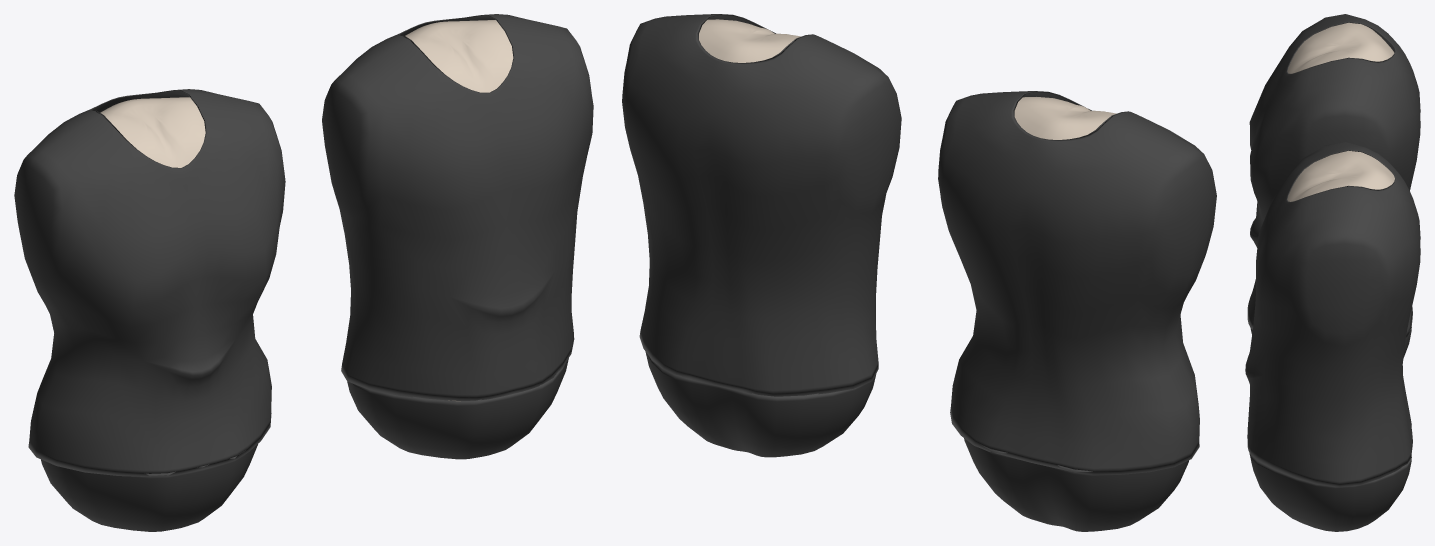
Rendered from VC_Avatar_Base_Torso_02.fbx.
3 renders of one model, left to right at view 1: azimuth 30°, elevation 25°; view 2: azimuth 150°, elevation 25°; view 3: azimuth 270°, elevation 25°, orthographic. The views are drawn at different scales.
Parts seen in each view (by area): view 1: VC_Avater_Male_Shirt_01, VC_Avater_Male_Shirt_02, VC_Avatar_Pants_Male1, VC_Avatar_Pants_Male, VC_Avatar_Torso_Male1, VC_Avatar_Torso_Male; view 2: VC_Avater_Male_Shirt_01, VC_Avater_Male_Shirt_02, VC_Avatar_Pants_Male1, VC_Avatar_Pants_Male, VC_Avatar_Torso_Male1, VC_Avatar_Torso_Male; view 3: VC_Avater_Male_Shirt_01, VC_Avater_Male_Shirt_02, VC_Avatar_Pants_Male1, VC_Avatar_Torso_Male1, VC_Avatar_Torso_Male.
Part boxes in pixels (bbox=[...]): VC_Avater_Male_Shirt_01: bbox=[322, 14, 593, 400]; VC_Avater_Male_Shirt_02: bbox=[14, 89, 285, 476]; VC_Avatar_Pants_Male1: bbox=[347, 358, 568, 459]; VC_Avatar_Pants_Male: bbox=[41, 444, 257, 531]; VC_Avatar_Torso_Male1: bbox=[405, 20, 513, 401]; VC_Avatar_Torso_Male: bbox=[100, 97, 205, 167]; VC_Avater_Male_Shirt_01: bbox=[622, 14, 901, 396]; VC_Avater_Male_Shirt_02: bbox=[938, 91, 1216, 474]; VC_Avatar_Pants_Male1: bbox=[645, 351, 876, 457]; VC_Avatar_Pants_Male: bbox=[964, 438, 1188, 531]; VC_Avatar_Torso_Male1: bbox=[699, 19, 800, 62]; VC_Avatar_Torso_Male: bbox=[1014, 97, 1116, 139]; VC_Avater_Male_Shirt_01: bbox=[1245, 142, 1420, 487]; VC_Avater_Male_Shirt_02: bbox=[1247, 14, 1420, 338]; VC_Avatar_Pants_Male1: bbox=[1249, 423, 1411, 531]; VC_Avatar_Torso_Male1: bbox=[1287, 150, 1394, 201]; VC_Avatar_Torso_Male: bbox=[1287, 22, 1394, 73].
Size of the model in its own units: 50.1 by 36.09 by 16.23.
